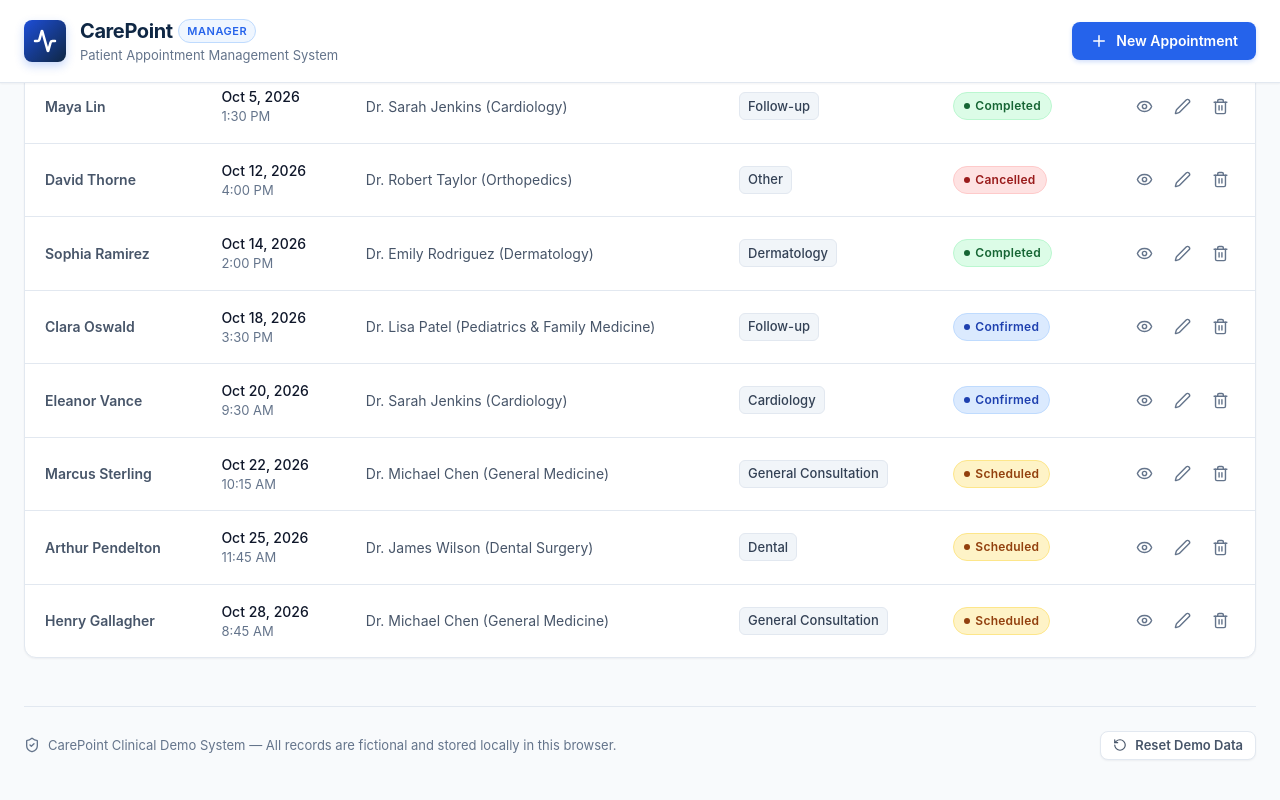
Test: CarePoint Dashboard Component Integration Tests › allows editing an existing appointment and updates values
This screenshot has width=1280, height=800.
(page scrolled)
Find edit button for first demo appointment (apt-demo-01: Eleanor Vance)
Click the button with test id "edit-apt-apt-demo-01" at (1182, 400), box x1=1167 y1=385 x2=1197 y2=415
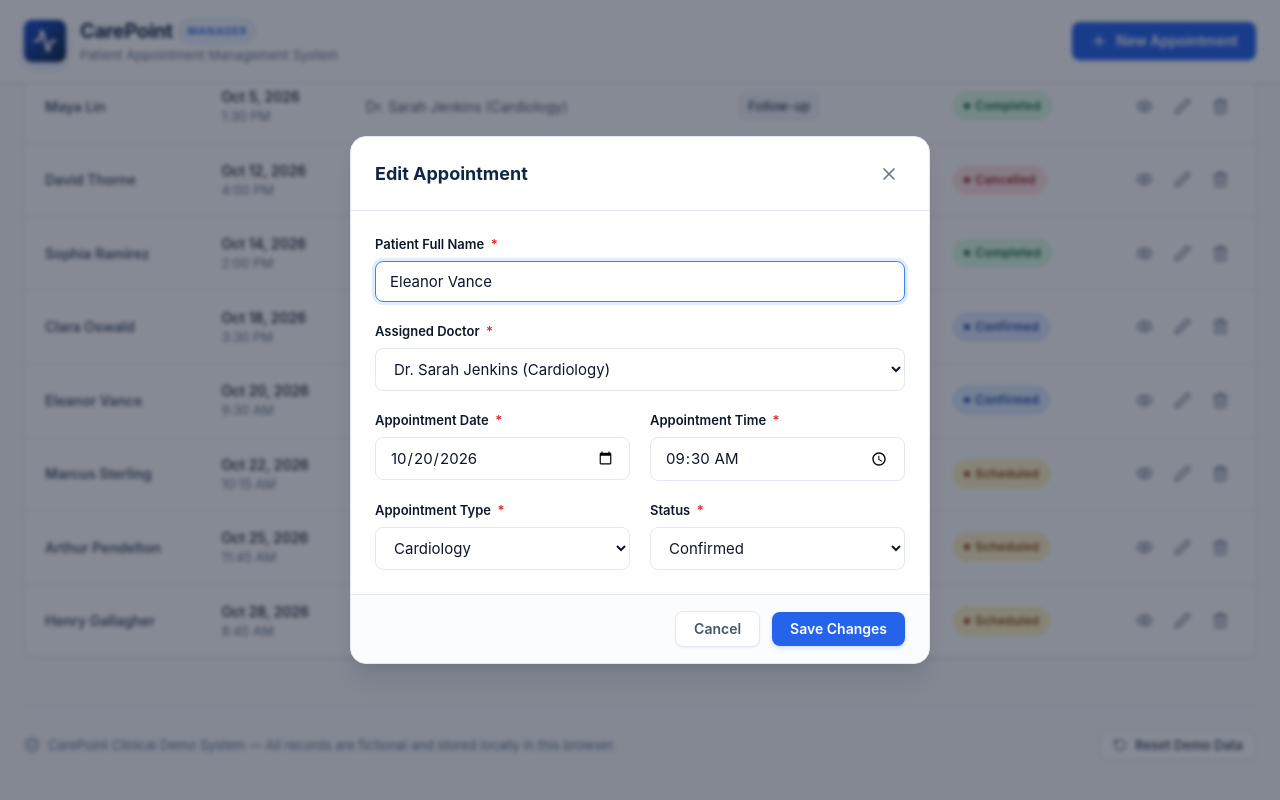
Result: the dialog with test id "appointment-form-modal" is shown at x1=350 y1=136 x2=930 y2=664
Result: the heading "Edit Appointment" is shown at x1=375 y1=160 x2=528 y2=187
Result: the field with test id "input-patient-name" holds "Eleanor Vance"
Replace the text in the field with test id "input-patient-name" with "Eleanor Vance-Crain" at (640, 282), box x1=375 y1=261 x2=905 y2=302
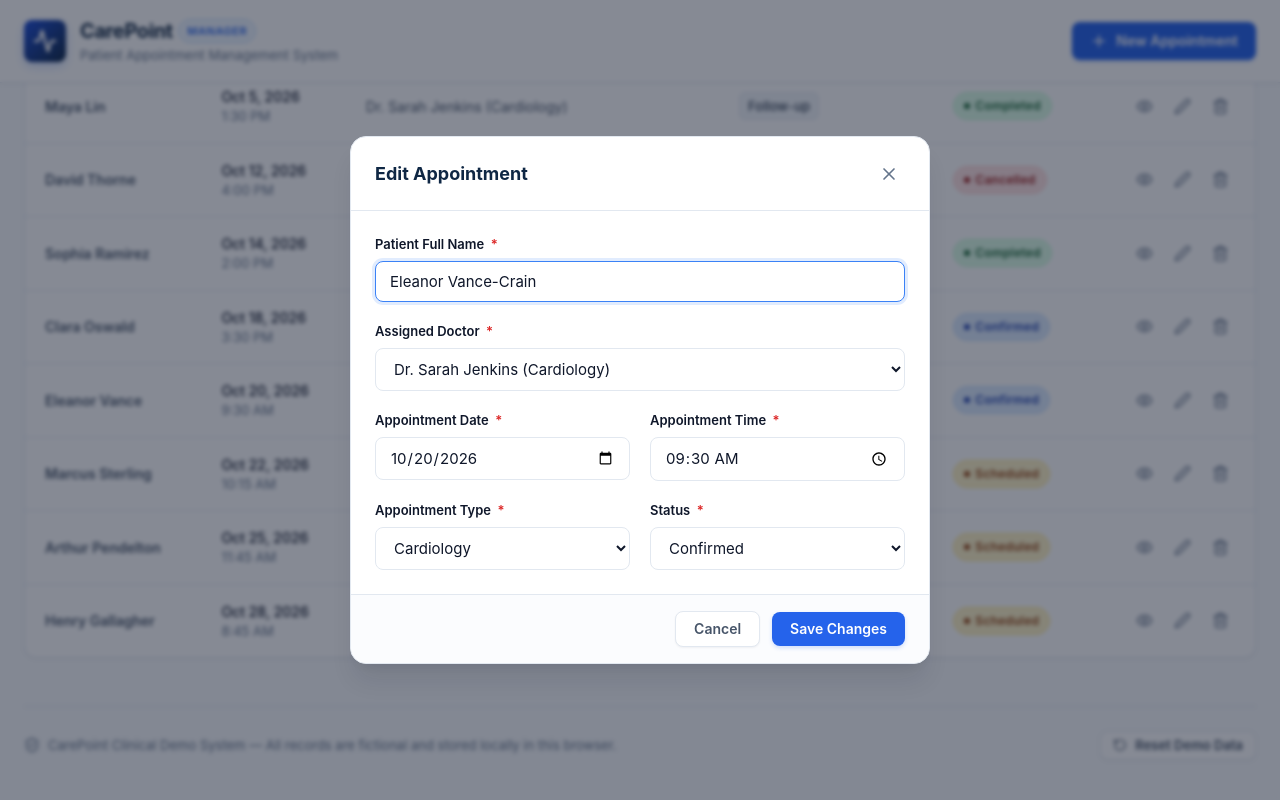
Click the button with test id "form-submit-btn" at (839, 628), box x1=772 y1=612 x2=905 y2=646
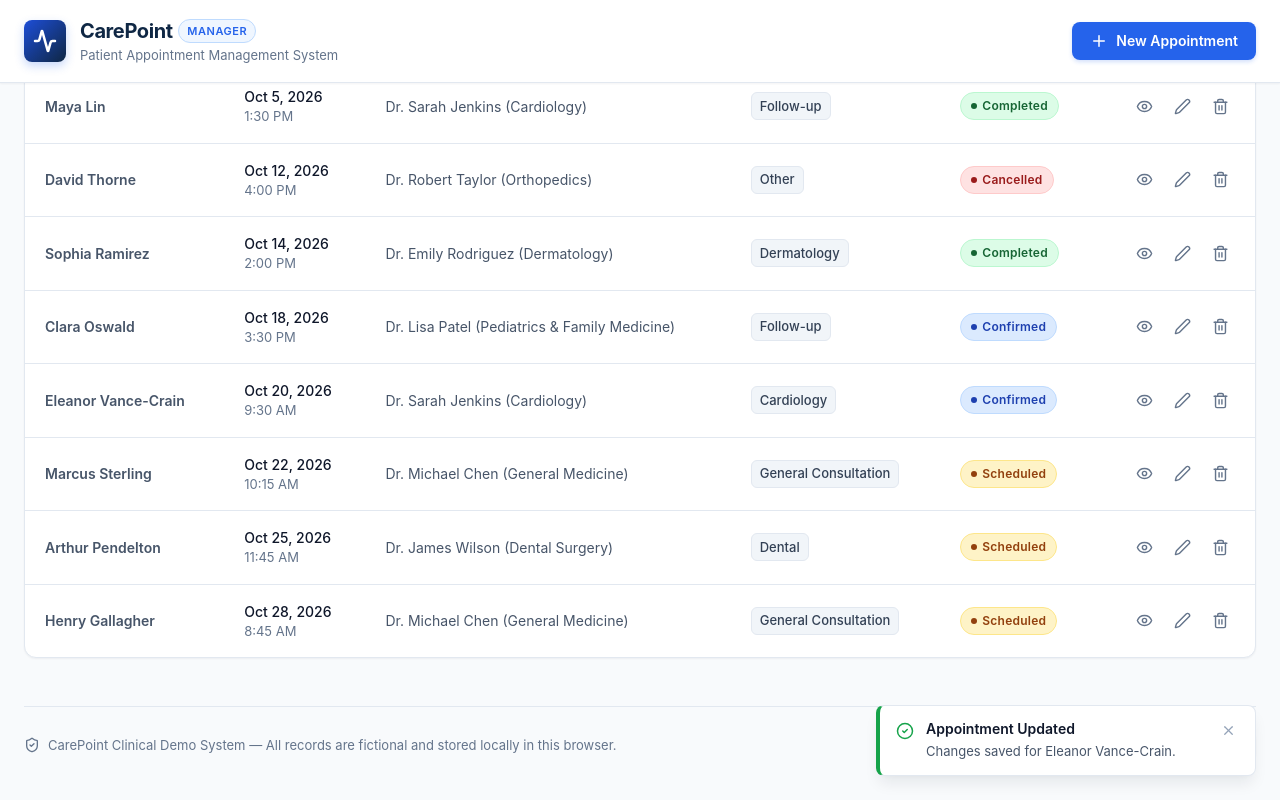
Result: the dialog with test id "appointment-form-modal" is gone
Result: the text "Eleanor Vance-Crain" is shown at x1=25 y1=364 x2=224 y2=437
Result: the message "Appointment Updated Changes saved for Eleanor Vance-Crain." is shown at x1=876 y1=705 x2=1256 y2=776
